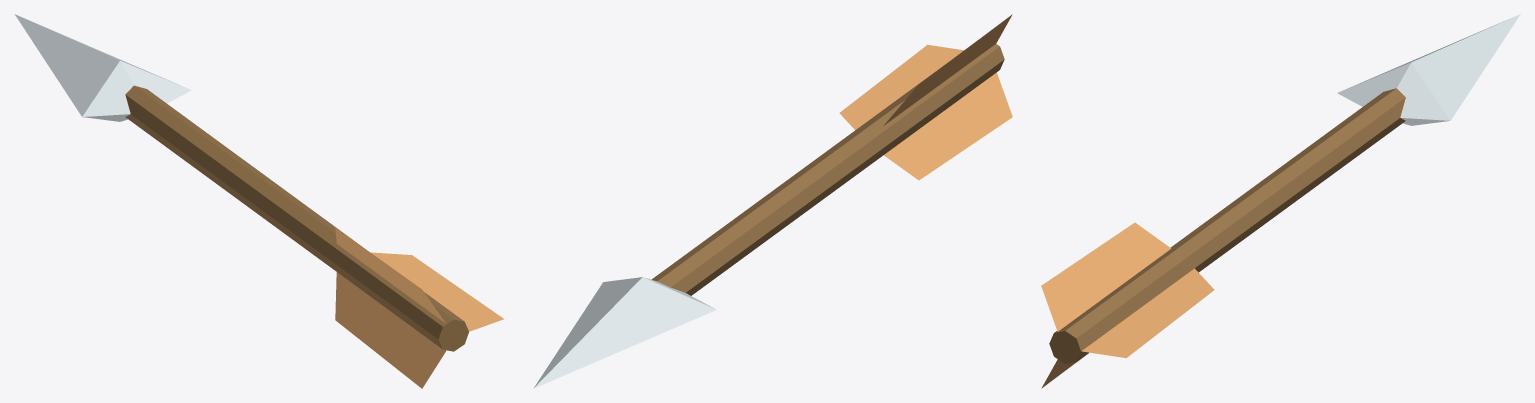
The model's file is bone_arrow.glb.
3 renders of one model, left to right at view 1: azimuth 30°, elevation 25°; view 2: azimuth 150°, elevation 25°; view 3: azimuth 330°, elevation 25°, orthographic. The views are drawn at different scales.
Parts seen in each view (by area): view 1: arrow_shaft, arrowhead, fletching_2, fletching_0, fletching_1; view 2: arrow_shaft, arrowhead, fletching_2, fletching_0, fletching_1; view 3: arrow_shaft, arrowhead, fletching_1, fletching_0.
Boxes of the visible parts, box(x1,y1,x2,y2) form: arrow_shaft: box(125, 85, 468, 351); arrowhead: box(14, 14, 191, 121); fletching_2: box(335, 272, 446, 388); fletching_0: box(370, 252, 504, 331); fletching_1: box(335, 227, 445, 323); arrow_shaft: box(651, 44, 1004, 295); arrowhead: box(533, 277, 716, 388); fletching_2: box(884, 72, 1012, 180); fletching_0: box(839, 44, 963, 130); fletching_1: box(883, 14, 1012, 126); arrow_shaft: box(1049, 88, 1405, 364); arrowhead: box(1337, 14, 1520, 125); fletching_1: box(1041, 222, 1170, 331); fletching_0: box(1082, 268, 1214, 358).
Size of the model in its own units: 0.15 by 0.1299 by 1.04.
